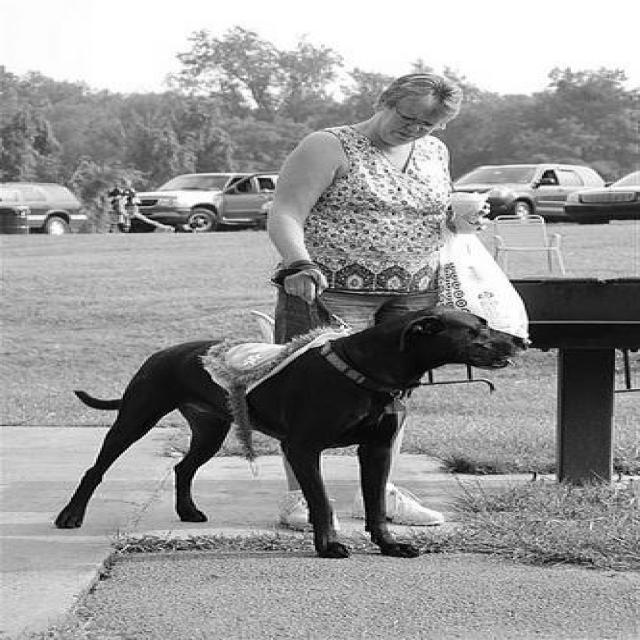Non-Gloves: (259, 245, 335, 308), (432, 190, 501, 252)
